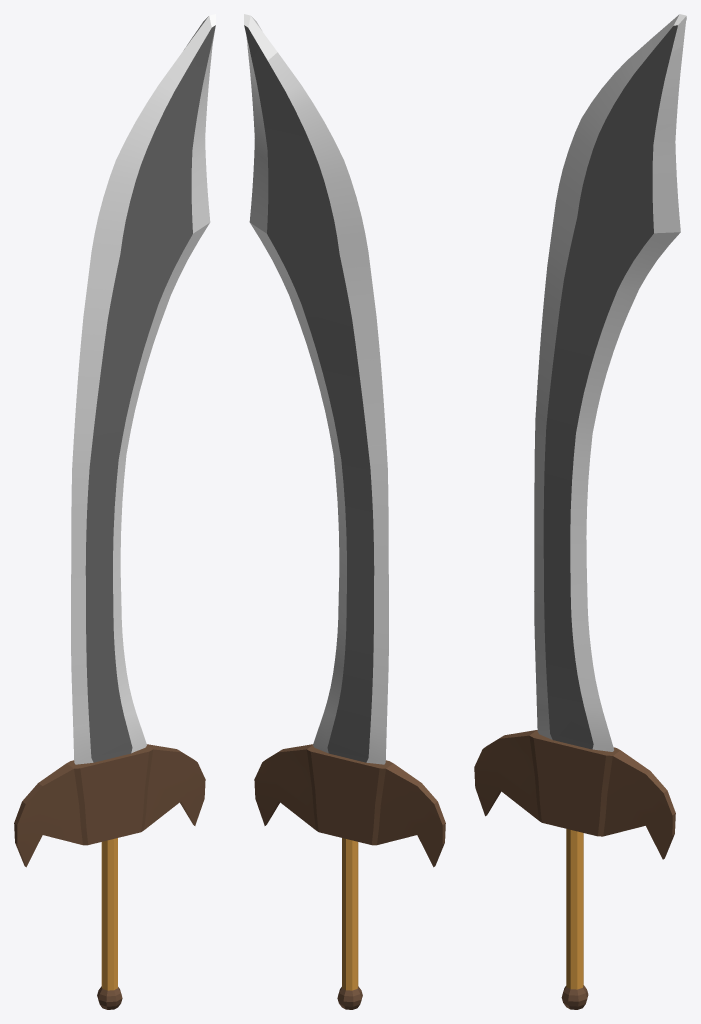
Rendered from one_handed_sword_3.fbx.
The picture shows the model from 3 angles, left to right: view 1: azimuth 30°, elevation 25°; view 2: azimuth 150°, elevation 25°; view 3: azimuth 330°, elevation 25°; orthographic projection. The views are drawn at different scales.
Parts seen in each view (by area): view 1: one_handed_sword_3; view 2: one_handed_sword_3; view 3: one_handed_sword_3.
Boxes of the visible parts, left/top/right/bottom form: one_handed_sword_3: left=14, top=14, right=215, bottom=1009; one_handed_sword_3: left=244, top=14, right=445, bottom=1009; one_handed_sword_3: left=474, top=14, right=686, bottom=1009.
Size of the model in its own units: 0.2768 by 1.28 by 0.0316.
1 material, 1 textured.
